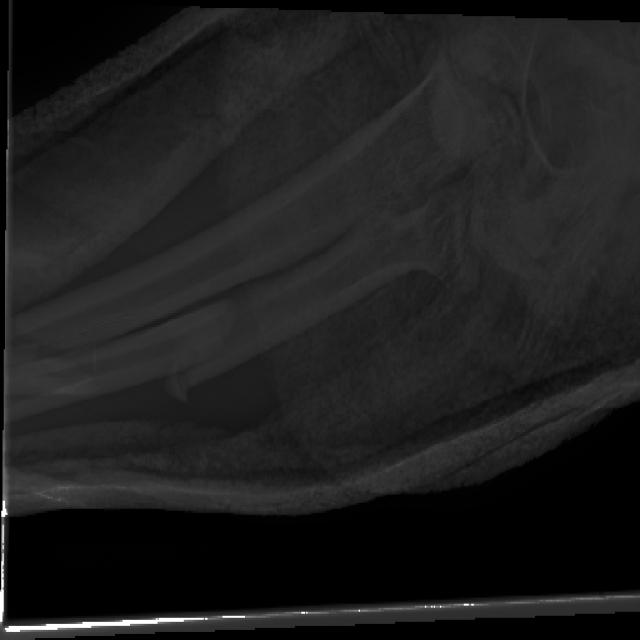forearm fracture: (41, 316, 121, 438), (151, 338, 216, 427)
